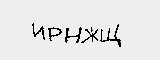Ж: (84, 25, 98, 45)
И: (31, 24, 46, 42)
Н: (64, 26, 84, 46)
Р: (46, 27, 64, 47)
Щ: (99, 22, 123, 47)
